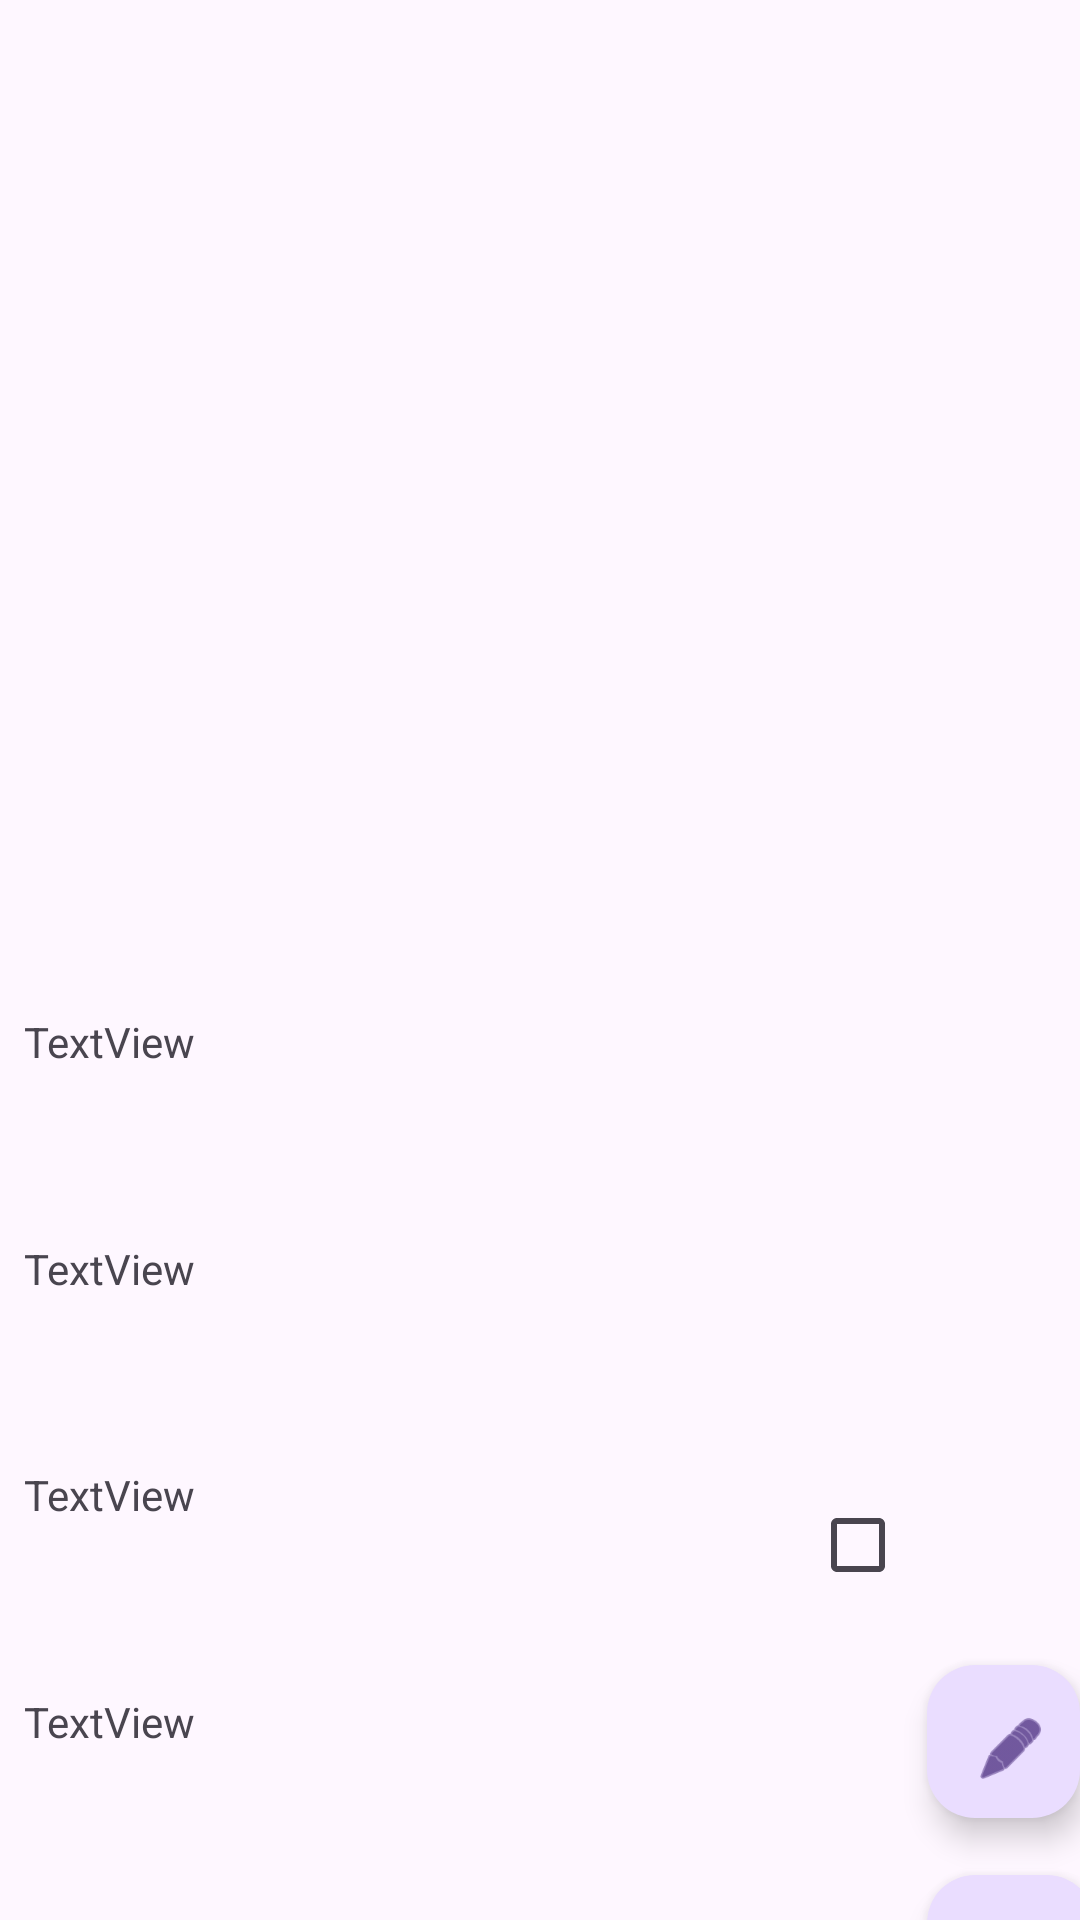

Icons on this 1080px x 1920px Android screen, each with the point to tap as (x=x, y=y):
edit: (x=1003, y=1741)
